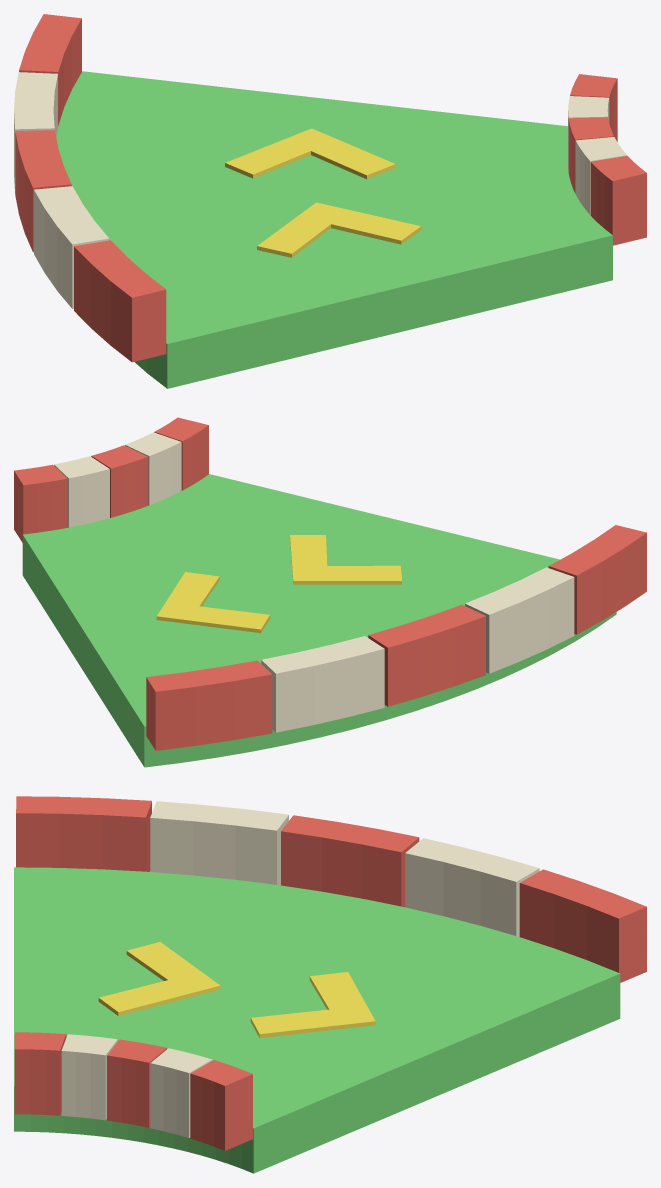
The model's file is carnival_turn_45deg_rounded.glb.
3 views of the same model, one above another, from view 1: azimuth 30°, elevation 25°; view 2: azimuth 150°, elevation 25°; view 3: azimuth 270°, elevation 25° (orthographic). The views are drawn at different scales.
Parts seen in each view (by area): view 1: Mesh_Floor.004, Mesh_Wall_L.004, Mesh_Wall_R.004, Mesh_Detail_Chevrons.002; view 2: Mesh_Floor.004, Mesh_Wall_L.004, Mesh_Wall_R.004, Mesh_Detail_Chevrons.002; view 3: Mesh_Floor.004, Mesh_Wall_L.004, Mesh_Wall_R.004, Mesh_Detail_Chevrons.002.
Boxes of the visible parts, x1,y1,x2,y2 form: Mesh_Floor.004: [56, 71, 612, 388]; Mesh_Wall_L.004: [14, 14, 166, 362]; Mesh_Wall_R.004: [568, 74, 646, 245]; Mesh_Detail_Chevrons.002: [225, 128, 421, 257]; Mesh_Floor.004: [22, 474, 616, 767]; Mesh_Wall_L.004: [146, 525, 646, 750]; Mesh_Wall_R.004: [14, 417, 208, 542]; Mesh_Detail_Chevrons.002: [156, 535, 401, 633]; Mesh_Floor.004: [14, 867, 620, 1173]; Mesh_Wall_L.004: [16, 796, 646, 982]; Mesh_Wall_R.004: [14, 1032, 252, 1150]; Mesh_Detail_Chevrons.002: [98, 942, 375, 1038].
Size of what is drawn, in the model's own units: 6.87 by 1.1 by 6.35.
